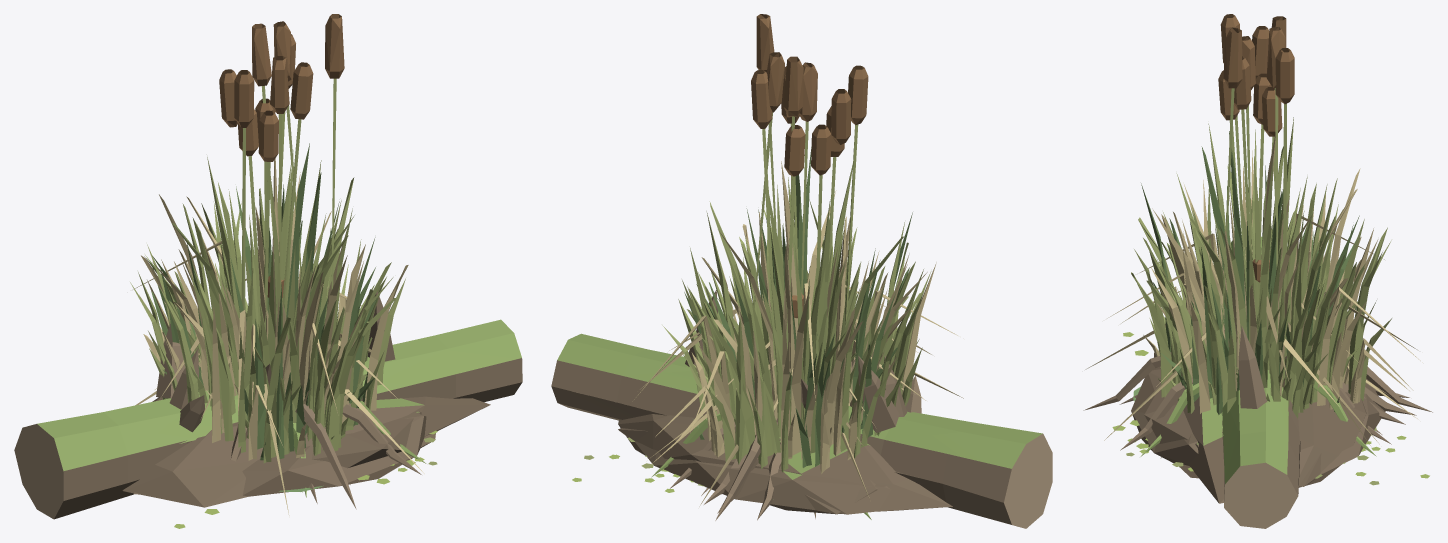
File: marsh-kit.low.glb
The picture shows the model from 3 angles, left to right: view 1: azimuth 30°, elevation 25°; view 2: azimuth 150°, elevation 25°; view 3: azimuth 270°, elevation 25°; orthographic projection. The views are drawn at different scales.
Parts seen in each view (by area): view 1: log-3, reeds-4, reeds-6, reeds-1, reeds-2, bank-3, reeds-5, reeds-3, bank-4, bank-1, log-4, roots-4 (+2 smaller); view 2: log-3, reeds-4, reeds-2, reeds-6, reeds-5, bank-3, reeds-1, reeds-3, bank-1, roots-4, bank-4, log-4 (+1 smaller); view 3: reeds-4, reeds-2, reeds-6, log-3, reeds-1, reeds-5, bank-3, reeds-3, bank-1, bank-4, roots-4, log-1 (+1 smaller).
Boxes of the visible parts, x1=… form: log-3: x1=14, y1=319, x2=522, y2=519; reeds-4: x1=130, y1=14, x2=405, y2=463; reeds-6: x1=133, y1=34, x2=424, y2=473; reeds-1: x1=141, y1=62, x2=397, y2=515; reeds-2: x1=152, y1=158, x2=384, y2=455; bank-3: x1=122, y1=337, x2=490, y2=507; reeds-5: x1=138, y1=150, x2=408, y2=503; reeds-3: x1=174, y1=98, x2=391, y2=430; bank-4: x1=133, y1=412, x2=426, y2=496; bank-1: x1=152, y1=376, x2=435, y2=467; log-4: x1=169, y1=348, x2=204, y2=432; roots-4: x1=295, y1=402, x2=426, y2=509; log-3: x1=551, y1=333, x2=1052, y2=528; reeds-4: x1=678, y1=14, x2=957, y2=501; reeds-2: x1=687, y1=147, x2=923, y2=468; reeds-6: x1=632, y1=65, x2=931, y2=518; reeds-5: x1=650, y1=194, x2=931, y2=473; bank-3: x1=618, y1=395, x2=952, y2=511; reeds-1: x1=693, y1=66, x2=963, y2=451; reeds-3: x1=687, y1=124, x2=920, y2=452; bank-1: x1=635, y1=399, x2=890, y2=514; roots-4: x1=651, y1=411, x2=871, y2=520; bank-4: x1=618, y1=428, x2=877, y2=514; log-4: x1=621, y1=355, x2=921, y2=416; reeds-4: x1=1107, y1=16, x2=1391, y2=413; reeds-2: x1=1161, y1=134, x2=1418, y2=414; reeds-6: x1=1104, y1=14, x2=1422, y2=440; log-3: x1=1221, y1=236, x2=1300, y2=528; reeds-1: x1=1085, y1=26, x2=1356, y2=406; reeds-5: x1=1119, y1=156, x2=1413, y2=458; bank-3: x1=1154, y1=322, x2=1366, y2=503; reeds-3: x1=1157, y1=73, x2=1364, y2=402; bank-1: x1=1144, y1=378, x2=1385, y2=478; bank-4: x1=1131, y1=365, x2=1324, y2=486; roots-4: x1=1083, y1=352, x2=1432, y2=456; log-1: x1=1223, y1=315, x2=1288, y2=441.
Bounding box in the file's own units: 1.3 × 1.17 × 0.8877.
